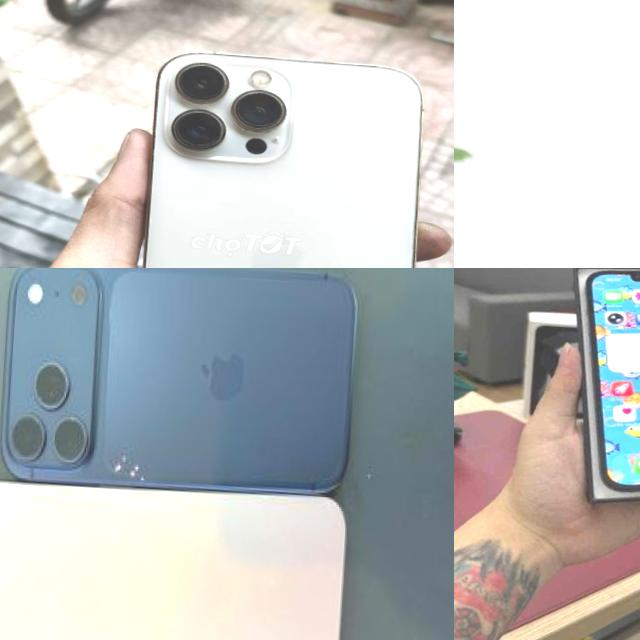gen_12_13: (125, 45, 441, 268), (567, 268, 640, 498)
gen_17: (0, 268, 371, 514)
scratch: (90, 424, 164, 496)
